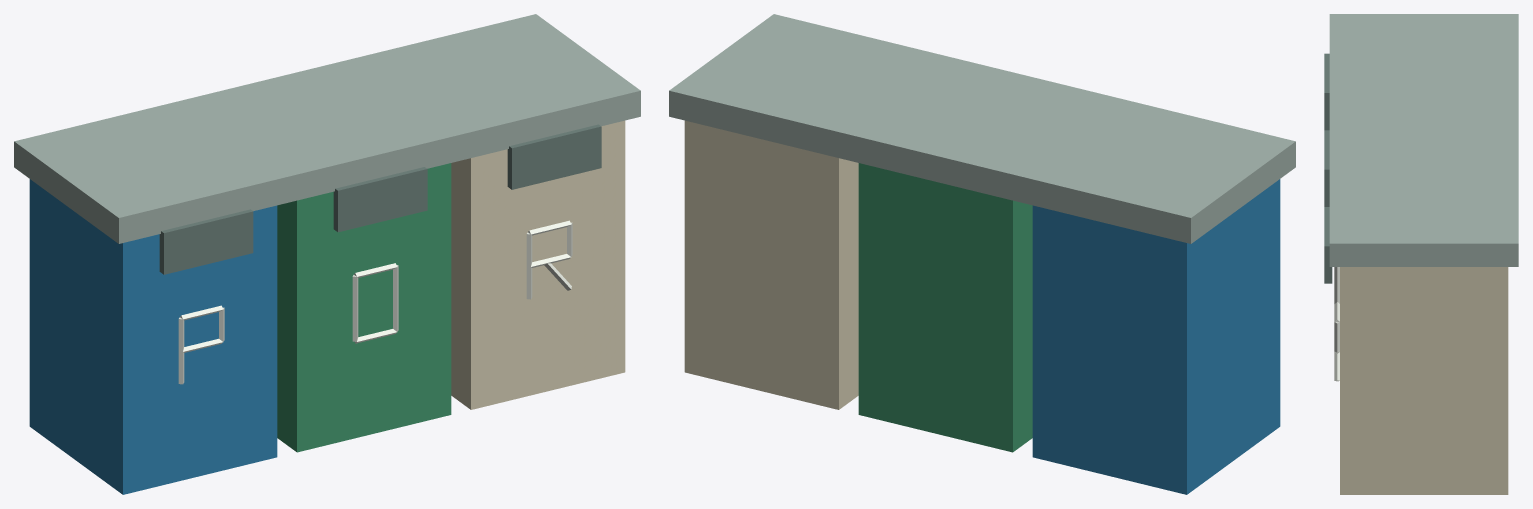
File: PLAZA-018.glb
3 renders of one model, left to right at view 1: azimuth 30°, elevation 25°; view 2: azimuth 150°, elevation 25°; view 3: azimuth 270°, elevation 25°, orthographic. The views are drawn at different scales.
Visible parts, largest first — view 1: PLAZA-018; view 2: PLAZA-018; view 3: PLAZA-018.
Part boxes in pixels (x1,y1,x2,y2): PLAZA-018: [14, 14, 640, 494]; PLAZA-018: [669, 14, 1295, 494]; PLAZA-018: [1324, 14, 1518, 494].
Size of the model in its own units: 2.1 by 1.09 by 0.75.
